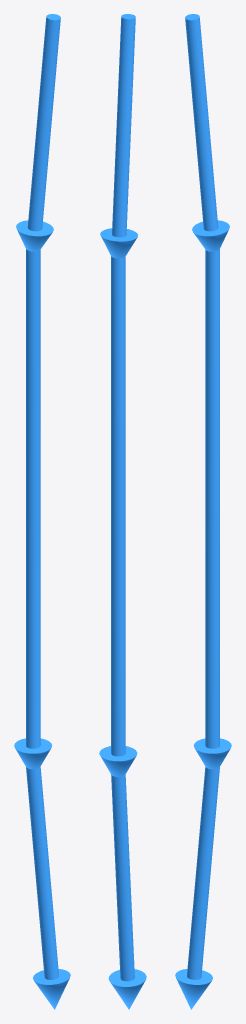
Rendered from mixed_bed_polisher_flow.glb.
3 renders of one model, left to right at view 1: azimuth 90°, elevation 25°; view 2: azimuth 150°, elevation 25°; view 3: azimuth 270°, elevation 25°, orthographic.
Parts seen in each view (by area): view 1: water; view 2: water; view 3: water.
Part boxes in pixels (bbox=[...]): water: bbox=[14, 14, 70, 1009]; water: bbox=[99, 14, 146, 1009]; water: bbox=[175, 14, 231, 1009].
Size of the model in its own units: 0.0936 by 2.69 by 0.1391.
